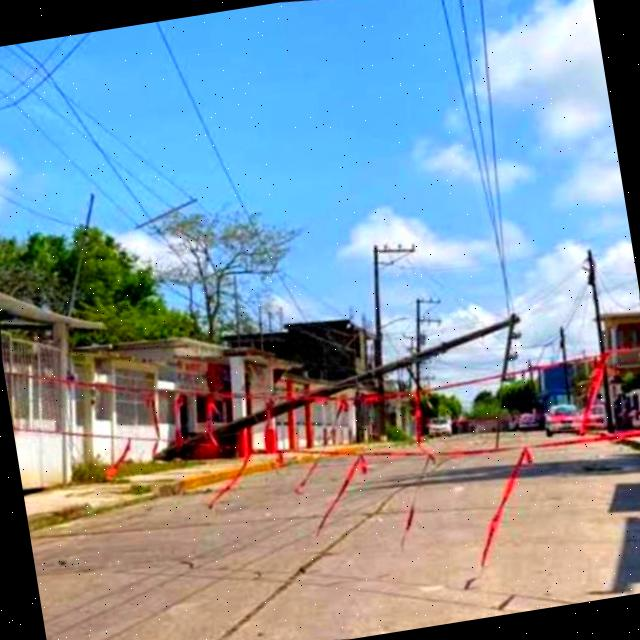Broken Pole: (161, 312, 522, 463)
